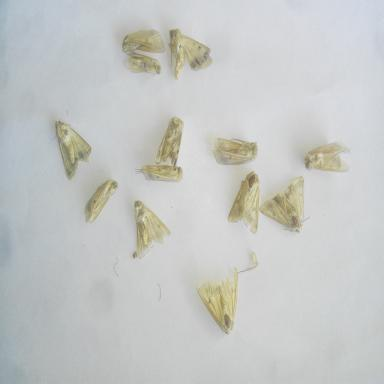abw: (257, 172, 316, 236), (193, 266, 241, 339), (221, 163, 262, 239), (49, 116, 94, 182), (167, 24, 215, 84), (132, 196, 174, 263), (151, 109, 188, 173), (211, 132, 267, 170), (302, 138, 355, 177), (118, 25, 169, 63), (83, 176, 121, 226), (131, 160, 187, 187), (122, 47, 165, 81)
